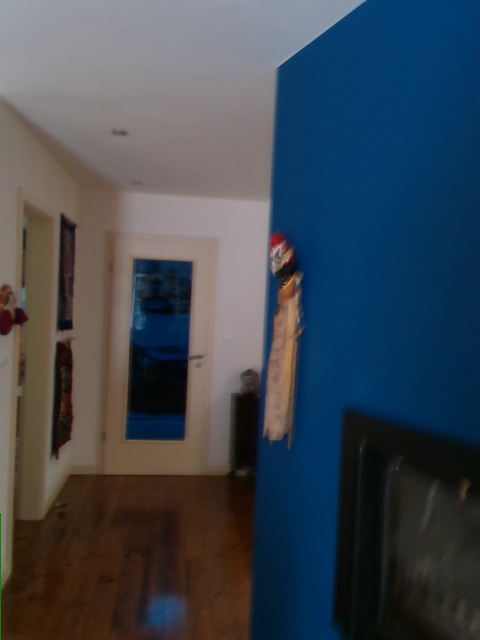closed: (103, 234, 219, 472)
